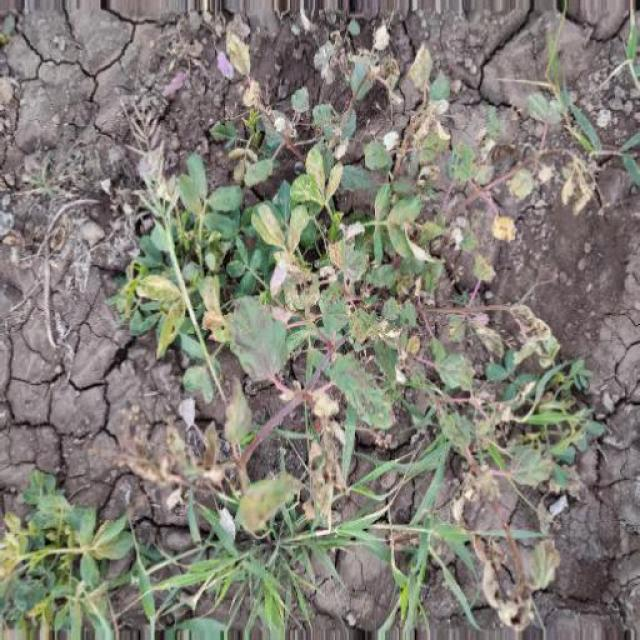weed: (64, 19, 608, 608)
